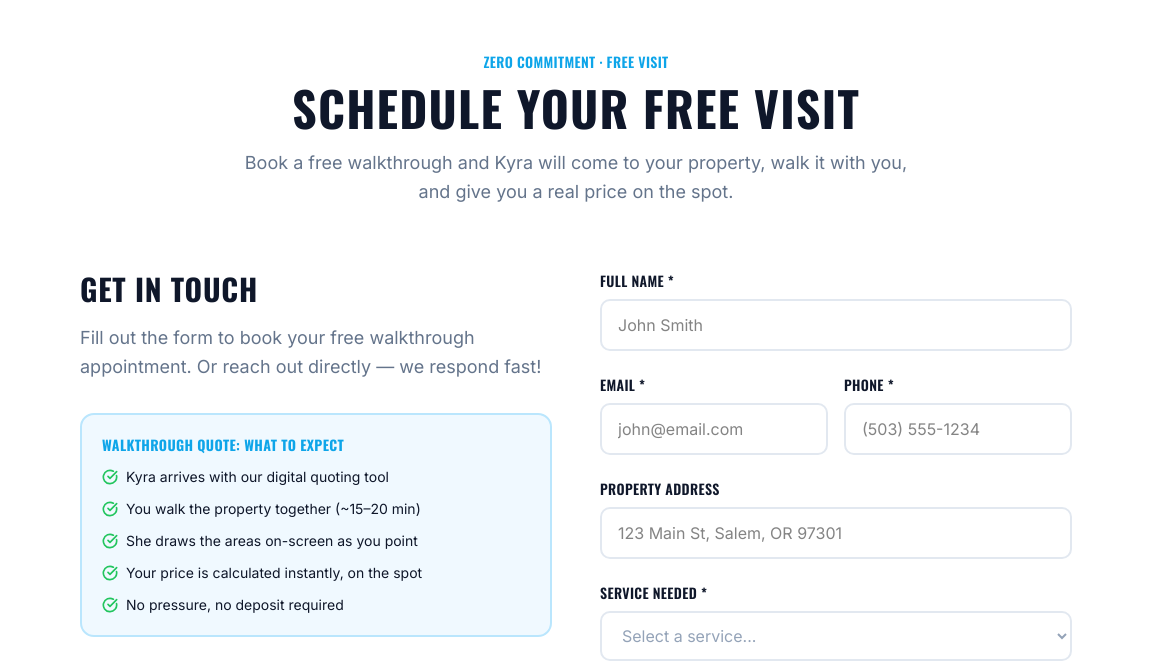
Test: ContactForm — required field validation › shows "Email is required" when email is empty
The width and height of the screenshot is (1152, 669).
In the field labelled "Full Name *": {"x": 836, "y": 324} [600,298,1072,350], type "Jane Doe"
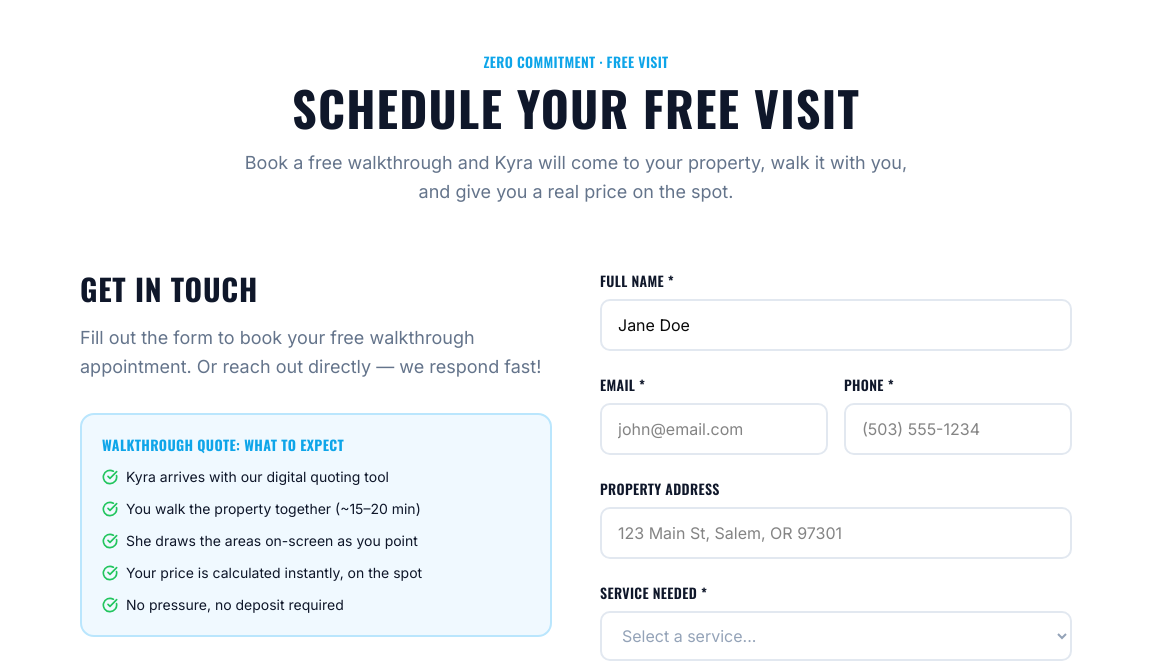
In the field labelled "Phone *": {"x": 958, "y": 428} [844,402,1072,454], type "5035551234"
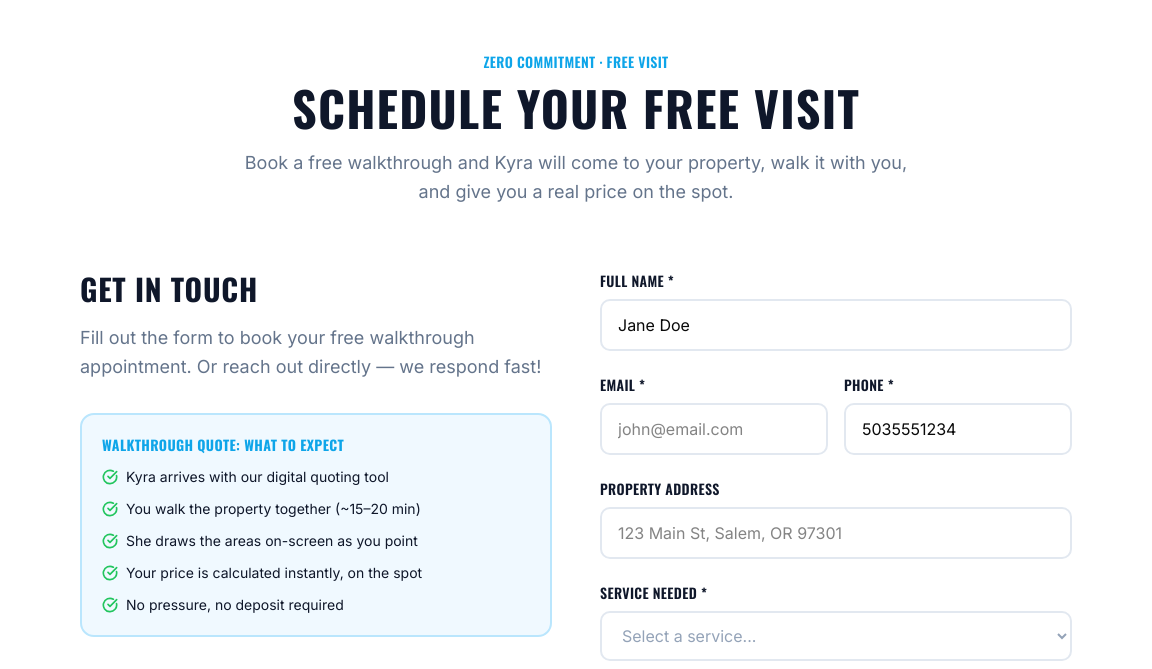
Select "Soft Washing (Siding)" in the dropdown labelled "Service Needed *": {"x": 836, "y": 636} [600,610,1072,660]
(page scrolled)
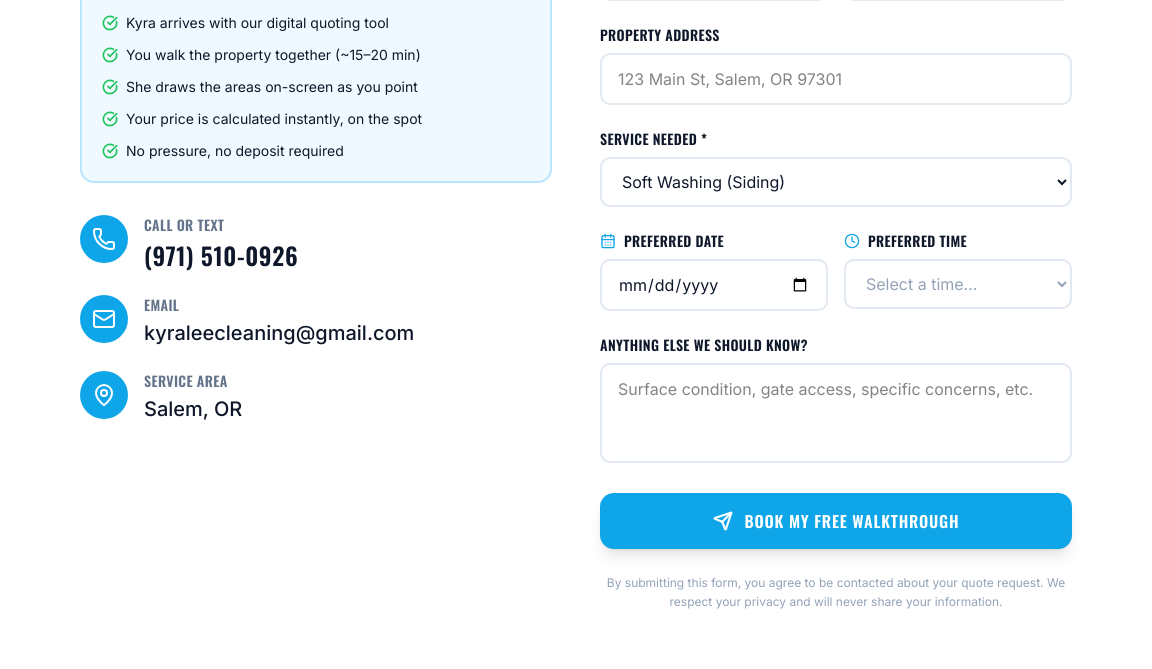
Click the button "Book My Free Walkthrough": {"x": 836, "y": 520} [600,492,1072,548]
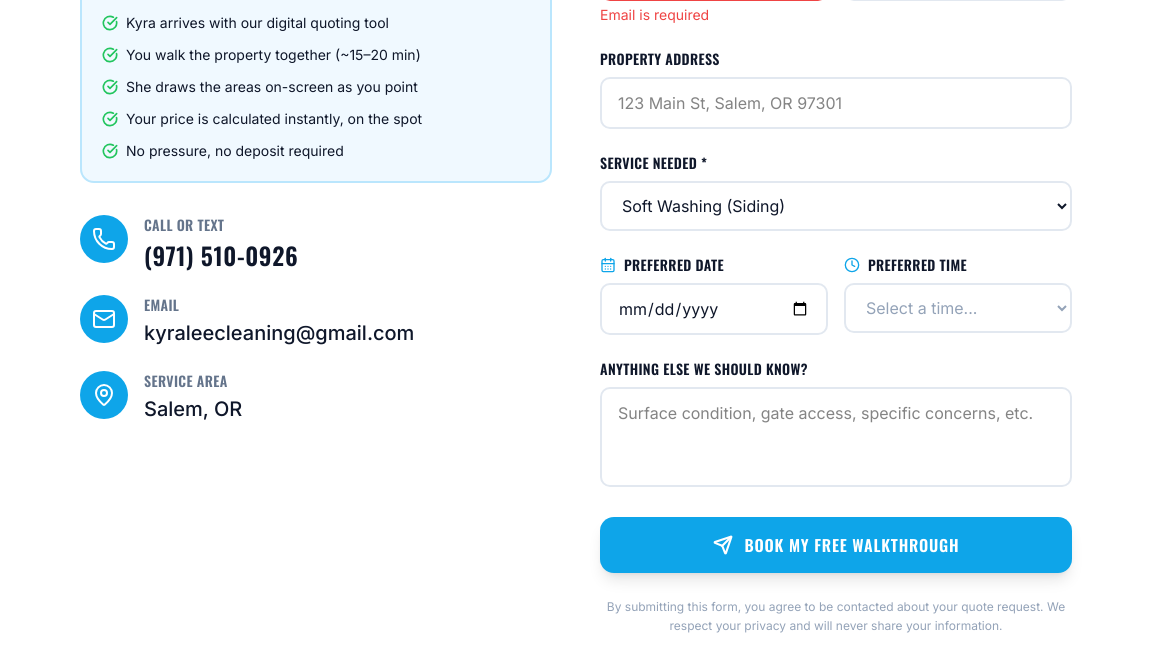
Check: the text "Email is required" is shown, box [600,6,709,22]
